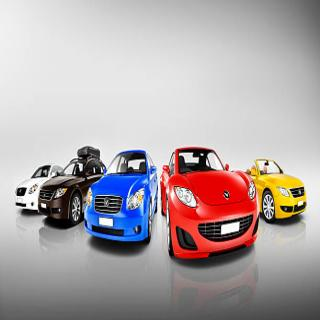Normal_vehicle: (161, 143, 260, 268), (83, 149, 156, 247), (230, 149, 308, 231), (40, 144, 108, 230), (15, 158, 62, 213)
